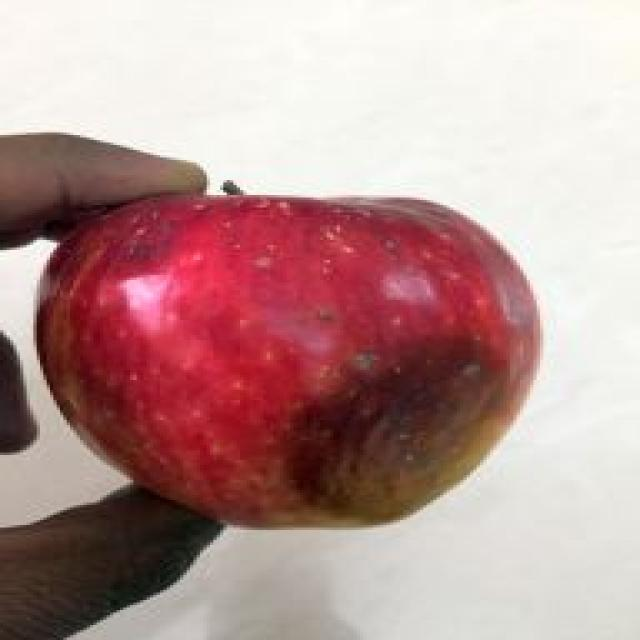Bad_Apple: (37, 198, 540, 527)
